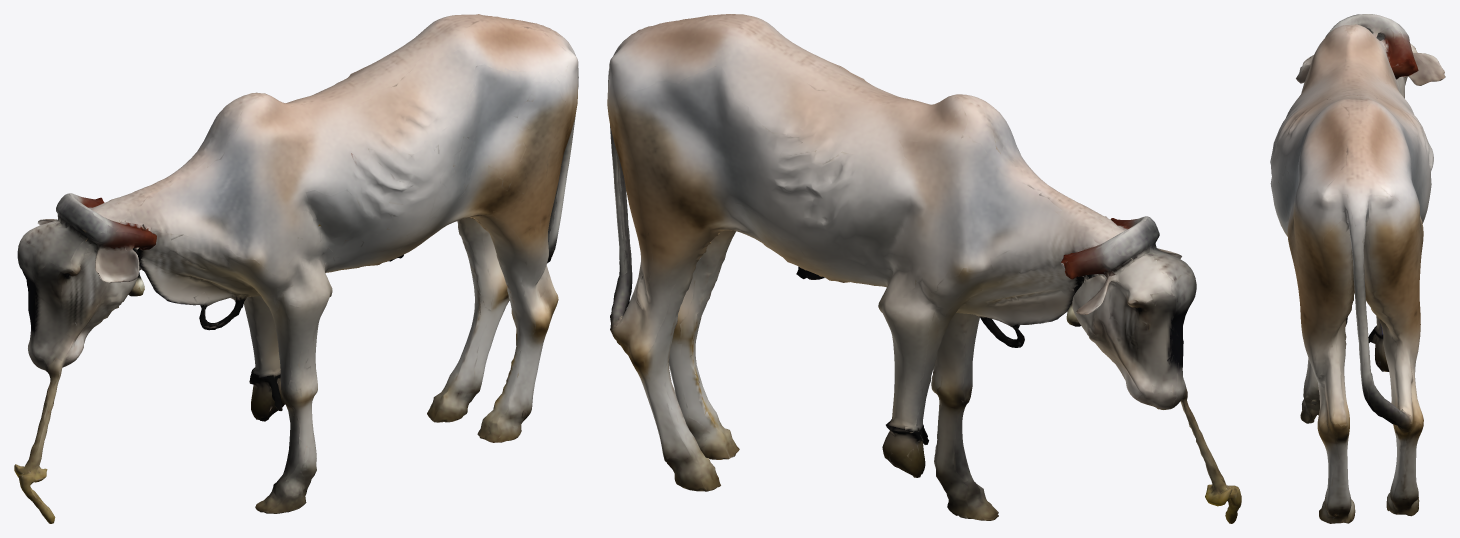
The picture shows the model from 3 angles, left to right: view 1: azimuth 30°, elevation 25°; view 2: azimuth 150°, elevation 25°; view 3: azimuth 270°, elevation 25°; orthographic projection. The views are drawn at different scales.
Visible parts, largest first — view 1: world; view 2: world; view 3: world.
Part boxes in pixels (left/top/right/bottom): world: left=14, top=14, right=578, bottom=523; world: left=607, top=14, right=1241, bottom=523; world: left=1270, top=14, right=1445, bottom=523.
Bounding box in the file's own units: 0.9991 × 0.7074 × 0.2766.
1 material, 1 textured.
